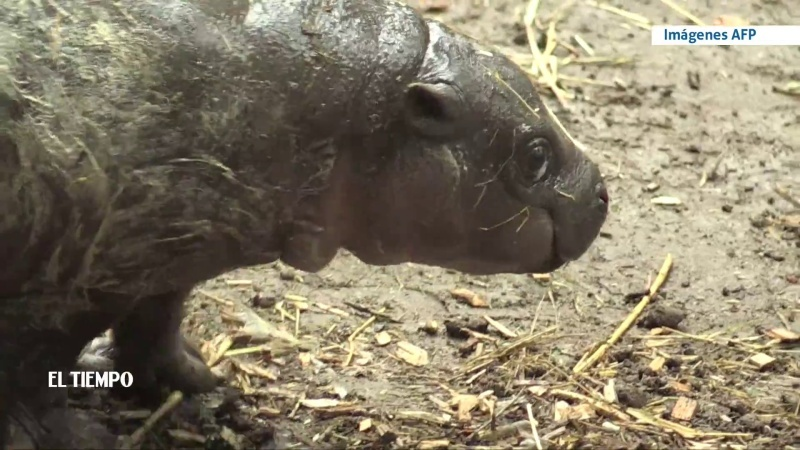hipopotamo: (1, 1, 626, 424)
